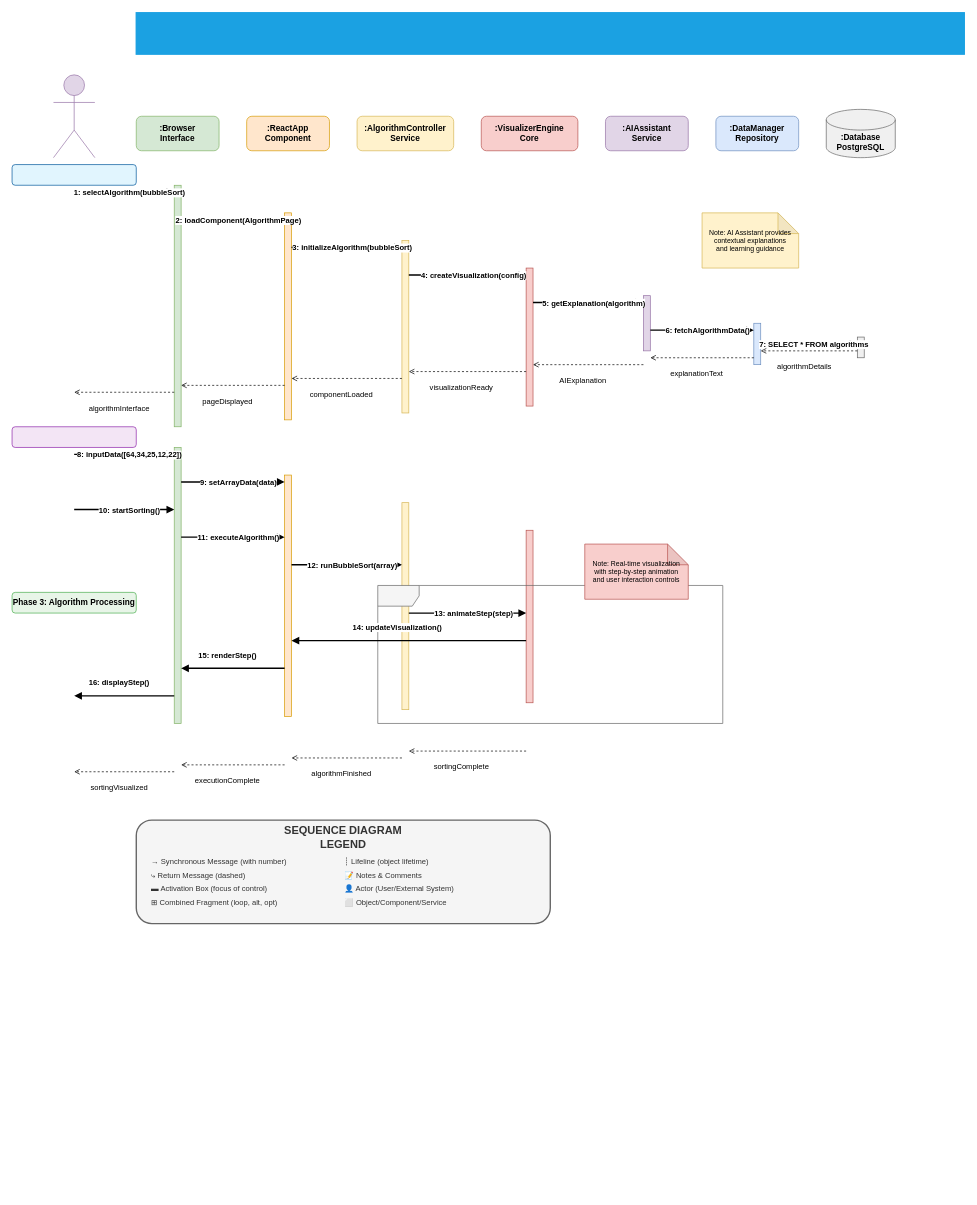
Image size: 977x1205. Some labels were removed from this diagram. Here are the shapes that lost their labels. From the top down, the centre of each, then its label:
the point at 550,33: DSA Visualizer - Algorithm Learning Process (Detailed Sequence)
the point at 74,116: Student User
the point at 73,174: Phase 1: Initialization & Setup
the point at 73,436: Phase 2: Data Input & Execution
the point at 550,654: loop [for each step in algorithm]
